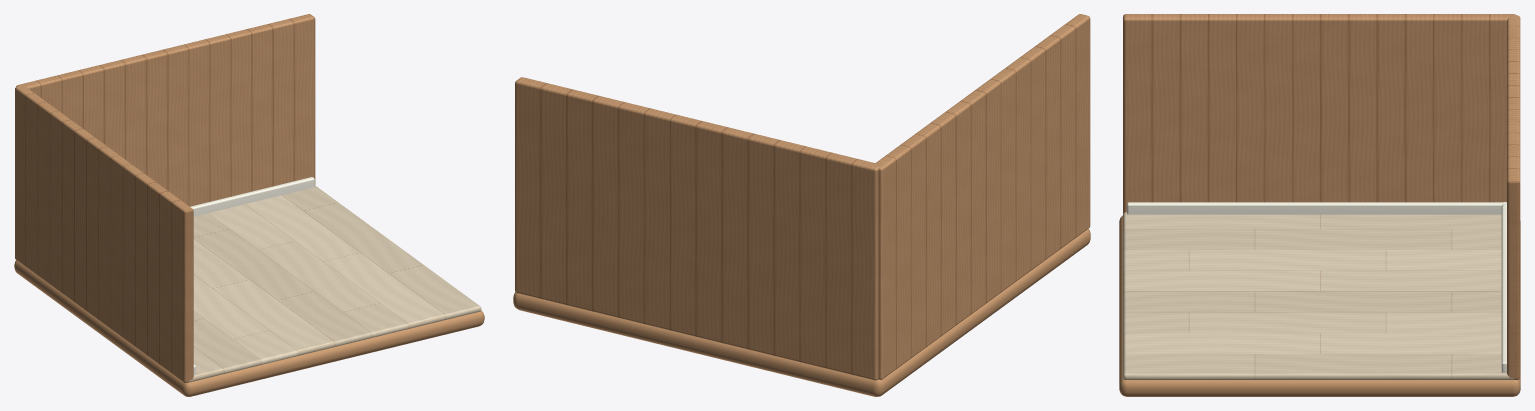
Rendered from room4.glb.
3 renders of one model, left to right at view 1: azimuth 30°, elevation 25°; view 2: azimuth 150°, elevation 25°; view 3: azimuth 270°, elevation 25°, orthographic. The views are drawn at different scales.
Parts seen in each view (by area): view 1: Back wall, Cream floor, Left wall, Rounded room foundation, Back skirting; view 2: Back wall, Left wall, Rounded room foundation; view 3: Left wall, Cream floor, Rounded room foundation, Back wall, Left skirting, Back skirting.
Part boxes in pixels (x1,y1,x2,y2): Back wall: [16, 14, 315, 206]; Cream floor: [188, 185, 481, 382]; Left wall: [15, 85, 193, 382]; Rounded room foundation: [14, 260, 484, 396]; Back skirting: [190, 177, 314, 216]; Back wall: [515, 77, 879, 380]; Left wall: [874, 14, 1090, 379]; Rounded room foundation: [513, 229, 1090, 396]; Left wall: [1123, 14, 1515, 213]; Cream floor: [1123, 212, 1514, 379]; Rounded room foundation: [1119, 215, 1520, 396]; Back wall: [1507, 15, 1520, 379]; Left skirting: [1127, 202, 1506, 214]; Back skirting: [1501, 202, 1506, 372].
Bounding box in the file's own units: 5.1 × 3.04 × 5.1.
4 materials, 2 textured.
